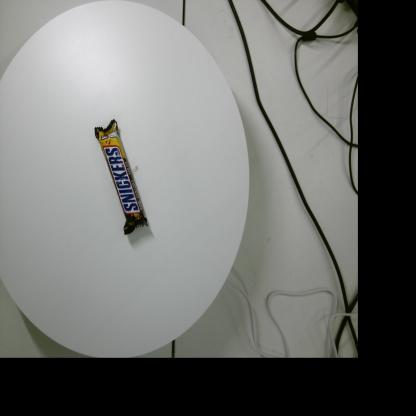Chocolate: (95, 119, 148, 235)
